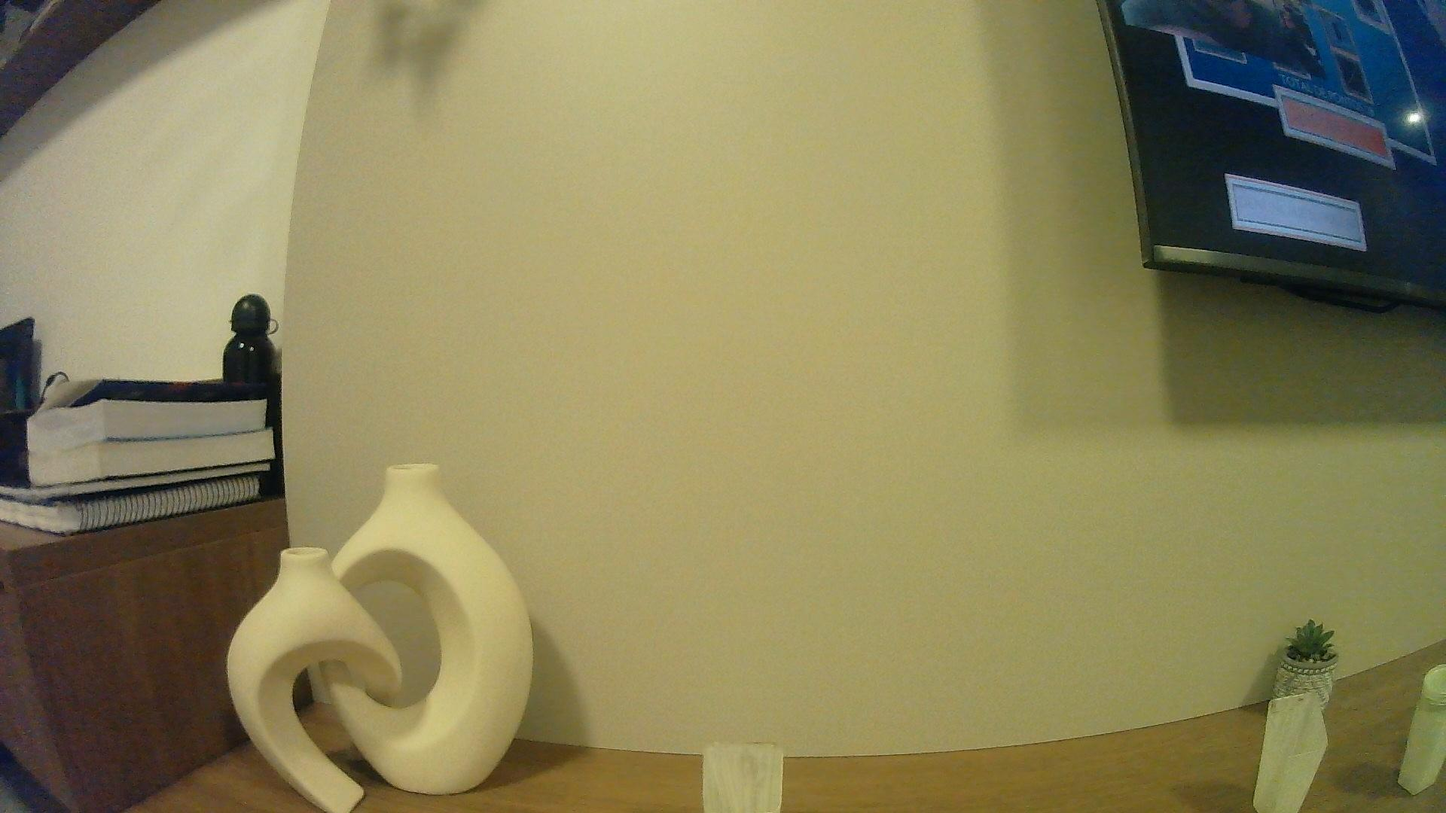erva_daninha: (1246, 691, 1330, 811), (691, 738, 792, 810)
